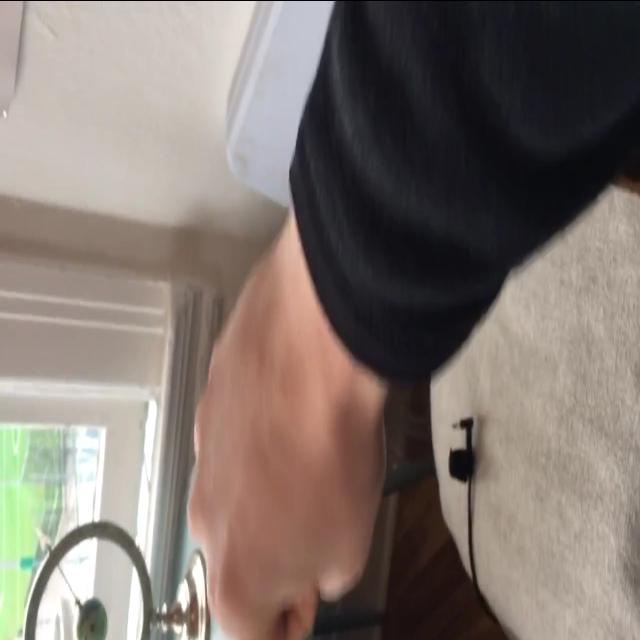Rock: (184, 243, 384, 640)
